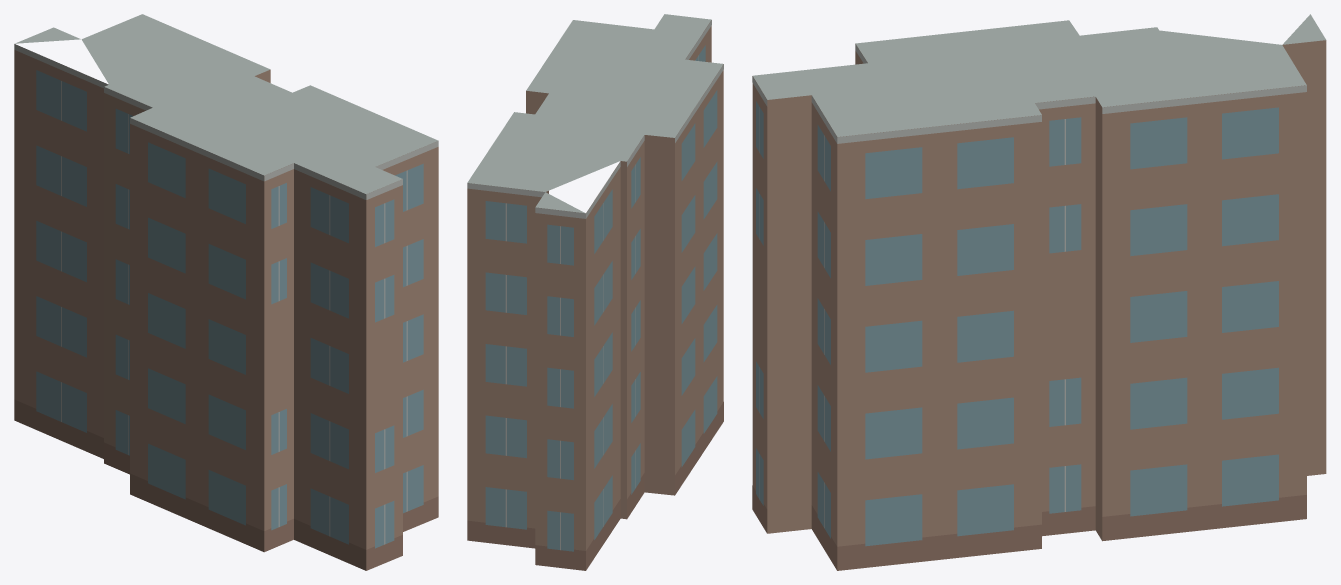
File: survey-upis-32573376.glb
3 renders of one model, left to right at view 1: azimuth 30°, elevation 25°; view 2: azimuth 150°, elevation 25°; view 3: azimuth 270°, elevation 25°, orthographic. The views are drawn at different scales.
Parts seen in each view (by area): view 1: survey-upis-32573376.tmp; view 2: survey-upis-32573376.tmp; view 3: survey-upis-32573376.tmp.
Part boxes in pixels (left/top/right/bottom): survey-upis-32573376.tmp: left=14, top=14, right=438, bottom=570; survey-upis-32573376.tmp: left=467, top=14, right=723, bottom=570; survey-upis-32573376.tmp: left=752, top=14, right=1326, bottom=570.
Bounding box in the file's own units: 9.38 × 15.4 × 18.47.
